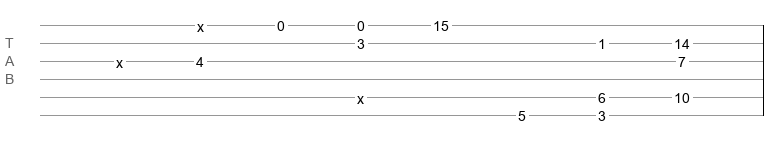0: (277, 18, 285, 28), (357, 18, 365, 28)
1: (598, 36, 606, 46)
10: (674, 90, 690, 100)
14: (674, 36, 690, 46)
15: (433, 18, 449, 28)
3: (357, 36, 365, 46), (598, 108, 606, 118)
4: (196, 54, 204, 64)
5: (518, 108, 526, 118)
6: (598, 90, 606, 100)
7: (678, 54, 686, 64)
x: (116, 55, 123, 63), (197, 19, 204, 27), (357, 91, 364, 99)
